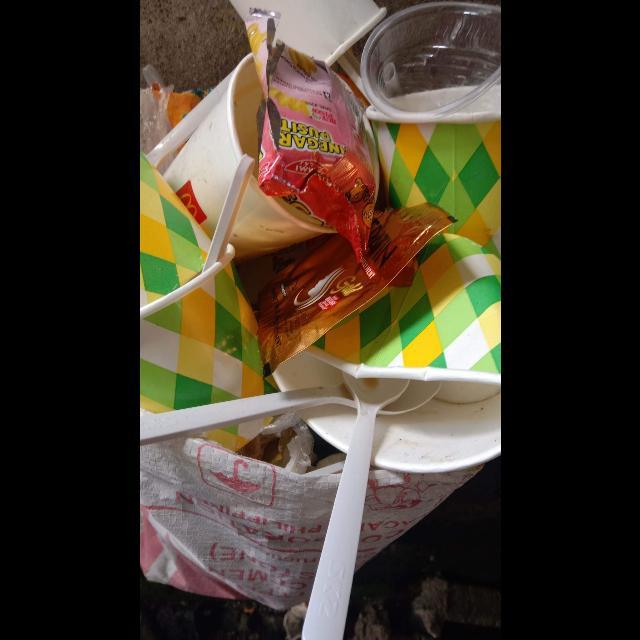paper: (273, 230, 501, 473), (139, 243, 281, 451), (365, 88, 501, 258), (139, 150, 221, 309)
wrapper: (256, 203, 456, 376), (245, 9, 380, 264)
